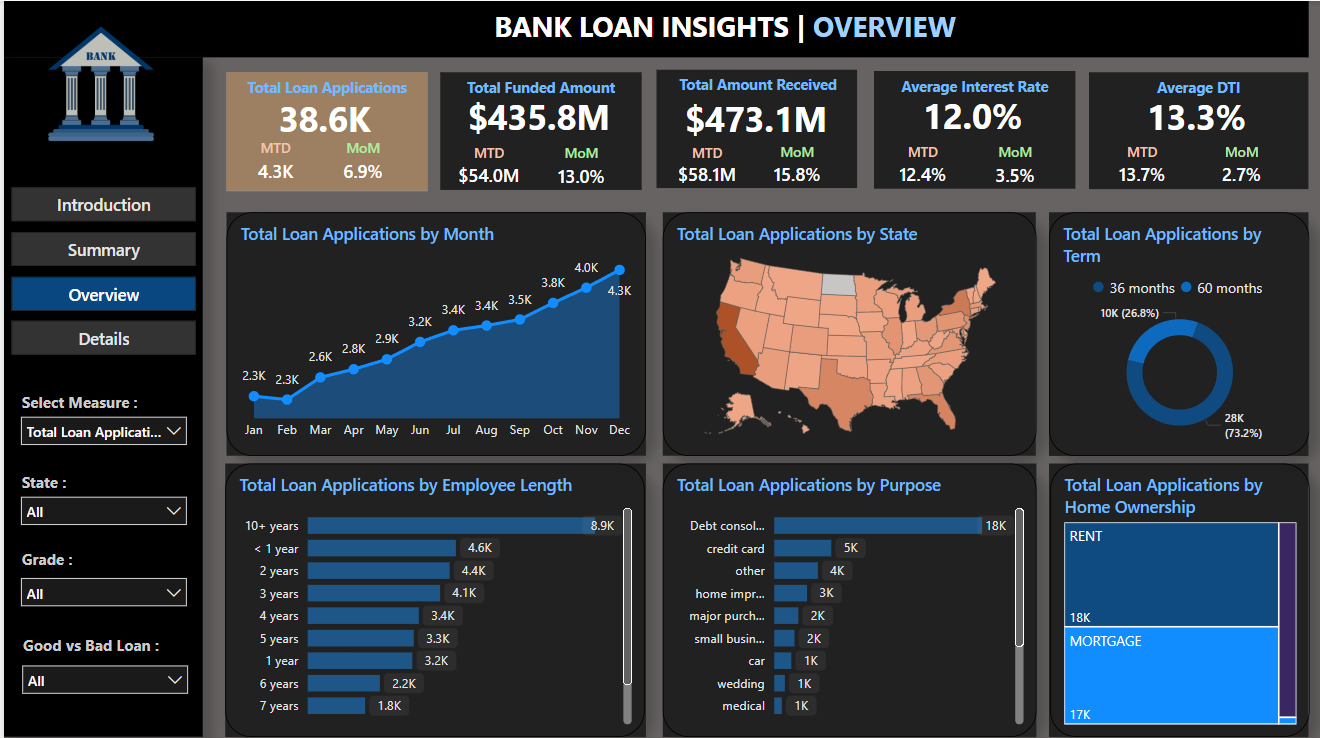

The dashboard page shown, as its layout file describes it:
{"tool":"powerbi","page":{"name":"Overview","canvas":[1280,720],"ordinal":2},"visuals":[{"type":"shape","box":[629.2,66.4,193.8,114.2],"z":0,"group":"g3"},{"type":"shape","box":[839.7,67.5,194.5,114],"z":0,"group":"g4"},{"type":"shape","box":[214.3,68.6,194.3,114.3],"z":0,"group":"g1"},{"type":"shape","box":[421.4,68.6,194.5,114],"z":0,"group":"g2"},{"type":"shape","box":[1047.5,69,211.7,112.9],"z":0,"group":"g5"},{"type":"shape","box":[214.3,204.3,405,235],"z":0},{"type":"shape","box":[0,0,1259.3,54.7],"z":1000},{"type":"card","fields":{"Values":["table_measures.avg_interest_rate"]},"box":[851.5,82.1,165.9,58.4],"z":1000,"group":"g4"},{"type":"card","fields":{"Values":["table_measures.total_loan_appl"]},"box":[247.2,83.2,124.3,61.3],"z":1000,"group":"g1"},{"type":"card","fields":{"Values":["table_measures.total_funded_amt"]},"box":[433.2,83.2,165.9,58.4],"z":1000,"group":"g2"},{"type":"card","fields":{"Values":["table_measures.avg_DTI"]},"box":[1060.3,83.4,180.6,57.8],"z":1000,"group":"g5"},{"type":"card","fields":{"Values":["table_measures.total_received_amt"]},"box":[643.2,85.3,163.1,55.8],"z":1000,"group":"g3"},{"type":"shape","box":[0,54.7,191.9,655.8],"z":2000},{"type":"textbox","box":[632.2,67,191,41.6],"z":2000,"group":"g3"},{"type":"textbox","box":[839.7,67.5,194.5,38.9],"z":2000,"group":"g4"},{"type":"textbox","box":[214.3,68.6,194.3,39],"z":2000,"group":"g1"},{"type":"textbox","box":[421.4,68.6,194.5,38.9],"z":2000,"group":"g2"},{"type":"textbox","box":[1047.5,69,211.7,38.5],"z":2000,"group":"g5"},{"type":"card","title":"MTD","fields":{"Values":["table_measures.MTD_loan_appl"]},"box":[235.7,132.7,51.4,50.2],"z":3000,"group":"g1"},{"type":"card","title":"MTD","fields":{"Values":["table_measures.MTD_interest_rate"]},"box":[851.5,136.3,70.1,48.6],"z":3000,"group":"g4"},{"type":"card","title":"MTD","fields":{"Values":["table_measures.MTD_received_amt"]},"box":[643.2,137.1,68.9,46.5],"z":3000,"group":"g3"},{"type":"card","title":"MTD","fields":{"Values":["table_measures.MTD_avg_DTI"]},"box":[1060.3,137.1,76.3,48.2],"z":3000,"group":"g5"},{"type":"card","title":"MTD","fields":{"Values":["table_measures.MTD_funded_amt"]},"box":[433.2,137.4,70.1,48.6],"z":3000,"group":"g2"},{"type":"textbox","box":[12.4,448.7,119.7,38.5],"z":3000},{"type":"textbox","box":[468.1,1.2,488.6,49.5],"z":4000},{"type":"card","title":"MoM","fields":{"Values":["table_measures.MOM_loan_appl"]},"box":[320,132.7,51.4,50.2],"z":4000,"group":"g1"},{"type":"card","title":"MoM","fields":{"Values":["table_measures.MOM_interest_rate"]},"box":[946.6,136.1,57.8,49.7],"z":4000,"group":"g4"},{"type":"card","title":"MoM","fields":{"Values":["table_measures.MOM_received_amt"]},"box":[736.7,136.9,56.8,47.5],"z":4000,"group":"g3"},{"type":"card","title":"MoM","fields":{"Values":["table_measures.MOM_avg_DTI"]},"box":[1163.9,136.9,62.9,49.2],"z":4000,"group":"g5"},{"type":"card","title":"MoM","fields":{"Values":["table_measures.MOM_funded_amt"]},"box":[528.3,137.2,57.8,49.7],"z":4000,"group":"g2"},{"type":"group","id":"g1","title":"Group 1","box":[214.3,68.6,194.3,114.3],"z":5000},{"type":"group","id":"g2","title":"Group 1","box":[421.4,68.6,194.3,118],"z":6000},{"type":"group","id":"g3","title":"Group 1","box":[629.2,66.4,194,118],"z":7000},{"type":"group","id":"g4","title":"Group 1","box":[839.7,67.5,194.5,118.2],"z":8000},{"type":"group","id":"g5","title":"Group 1","box":[1047.5,69,211.5,116.9],"z":9000},{"type":"shape","box":[635.9,203.7,360,235],"z":10000},{"type":"slicer","fields":{"Values":["financial_loan.address_state"]},"box":[5.5,468,180.3,50.9],"z":11000},{"type":"slicer","fields":{"Values":["financial_loan.grade"]},"box":[5.5,546.4,180.3,50.9],"z":12000},{"type":"textbox","box":[12.4,523,119.7,38.5],"z":13000},{"type":"slicer","fields":{"Values":["financial_loan.Good vs Band Loan"]},"box":[6.9,630.4,180.3,50.9],"z":14000},{"type":"textbox","box":[13.8,607,163.8,38.5],"z":15000},{"type":"areaChart","fields":{"Y":["table_measures.total_loan_appl"],"Category":["Date Table.Month"]},"box":[214.7,203.7,404.6,235.4],"z":16000},{"type":"slicer","fields":{"Values":["Select Measure.Select Measure"]},"box":[5.5,390.9,180.3,55.1],"z":17000},{"type":"shape","box":[213.3,445.9,406,264.3],"z":18000},{"type":"shapeMap","fields":{"Value":["table_measures.total_loan_appl"],"Category":["financial_loan.address_state"]},"box":[635.9,203.7,360.6,235.4],"z":19000},{"type":"shape","box":[1008.9,203.7,250.5,235.4],"z":20000},{"type":"donutChart","fields":{"Y":["table_measures.total_loan_appl"],"Category":["financial_loan.term"]},"box":[1008.1,203.5,251.2,234.9],"z":21000},{"type":"barChart","fields":{"Y":["table_measures.total_loan_appl"],"Category":["financial_loan.emp_length"]},"box":[213.3,445.9,404.6,264.3],"z":22000},{"type":"textbox","box":[12.4,371.6,139,38.5],"z":23000},{"type":"shape","box":[635.9,445.9,360.6,264.3],"z":24000},{"type":"barChart","fields":{"Y":["table_measures.total_loan_appl"],"Category":["financial_loan.purpose"]},"box":[635.9,445.9,360.6,264.3],"z":25000},{"type":"shape","box":[1008.9,445.9,250.5,264.3],"z":26000},{"type":"treemap","fields":{"Values":["table_measures.total_loan_appl"],"Group":["financial_loan.home_ownership"]},"box":[1009.3,446.5,250,264],"z":27000},{"type":"pageNavigator","box":[6.9,180.3,178.9,163.8],"z":28000},{"type":"image","box":[0,1.4,187.2,156.9],"z":29000}]}

Visuals, with their boxes in screenshot pixels (x1, y1, x2, y2), scaled from the page's 1280x720 canvas onto the 1320x738 screenshot:
shape: <box>649,68,849,185</box>
shape: <box>866,69,1067,186</box>
shape: <box>221,70,421,187</box>
shape: <box>435,70,635,187</box>
shape: <box>1080,71,1299,186</box>
shape: <box>221,209,639,450</box>
shape: <box>0,0,1299,56</box>
card - table_measures.avg_interest_rate: <box>878,84,1049,144</box>
card - table_measures.total_loan_appl: <box>255,85,383,148</box>
card - table_measures.total_funded_amt: <box>447,85,618,145</box>
card - table_measures.avg_DTI: <box>1093,85,1280,145</box>
card - table_measures.total_received_amt: <box>663,87,831,145</box>
shape: <box>0,56,198,728</box>
textbox: <box>652,69,849,111</box>
textbox: <box>866,69,1067,109</box>
textbox: <box>221,70,421,110</box>
textbox: <box>435,70,635,110</box>
textbox: <box>1080,71,1299,110</box>
"MTD" card: <box>243,136,296,187</box>
"MTD" card: <box>878,140,950,190</box>
"MTD" card: <box>663,141,734,188</box>
"MTD" card: <box>1093,141,1172,190</box>
"MTD" card: <box>447,141,519,191</box>
textbox: <box>13,460,136,499</box>
textbox: <box>483,1,987,52</box>
"MoM" card: <box>330,136,383,187</box>
"MoM" card: <box>976,140,1036,190</box>
"MoM" card: <box>760,140,818,189</box>
"MoM" card: <box>1200,140,1265,191</box>
"MoM" card: <box>545,141,604,192</box>
"Group 1" group: <box>221,70,421,187</box>
"Group 1" group: <box>435,70,635,191</box>
"Group 1" group: <box>649,68,849,189</box>
"Group 1" group: <box>866,69,1067,190</box>
"Group 1" group: <box>1080,71,1298,191</box>
shape: <box>656,209,1027,450</box>
slicer - financial_loan.address_state: <box>6,480,192,532</box>
slicer - financial_loan.grade: <box>6,560,192,612</box>
textbox: <box>13,536,136,576</box>
slicer - financial_loan.Good vs Band Loan: <box>7,646,193,698</box>
textbox: <box>14,622,183,662</box>
areaChart - table_measures.total_loan_appl x Date Table.Month: <box>221,209,639,450</box>
slicer - Select Measure.Select Measure: <box>6,401,192,457</box>
shape: <box>220,457,639,728</box>
shapeMap - table_measures.total_loan_appl x financial_loan.address_state: <box>656,209,1028,450</box>
shape: <box>1040,209,1299,450</box>
donutChart - table_measures.total_loan_appl x financial_loan.term: <box>1040,209,1299,449</box>
barChart - table_measures.total_loan_appl x financial_loan.emp_length: <box>220,457,637,728</box>
textbox: <box>13,381,156,420</box>
shape: <box>656,457,1028,728</box>
barChart - table_measures.total_loan_appl x financial_loan.purpose: <box>656,457,1028,728</box>
shape: <box>1040,457,1299,728</box>
treemap - table_measures.total_loan_appl x financial_loan.home_ownership: <box>1041,458,1299,728</box>
pageNavigator: <box>7,185,192,353</box>
image: <box>0,1,193,162</box>
